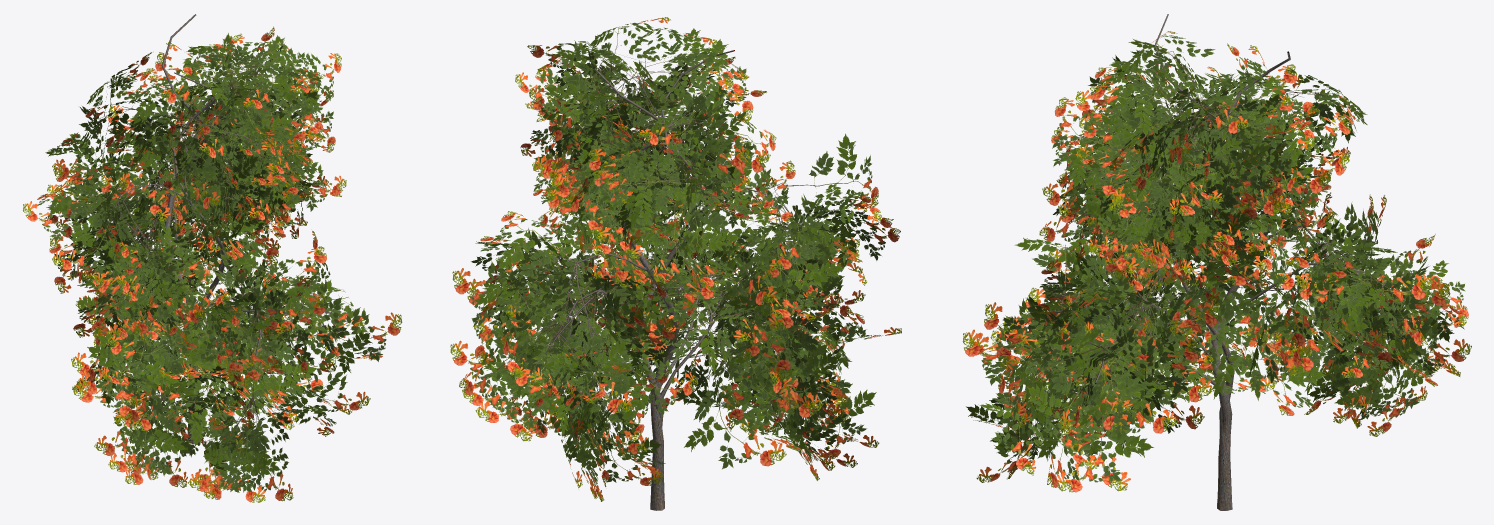
Rendered from ChineseTrumpetVine_1.fbx.
The picture shows the model from 3 angles, left to right: view 1: azimuth 30°, elevation 25°; view 2: azimuth 150°, elevation 25°; view 3: azimuth 270°, elevation 25°; orthographic projection. The views are drawn at different scales.
Visible parts, largest first — view 1: ChineseTrumpetVine_1; view 2: ChineseTrumpetVine_1; view 3: ChineseTrumpetVine_1.
Part boxes in pixels (x1,y1,x2,y2): ChineseTrumpetVine_1: (23,14,402,502); ChineseTrumpetVine_1: (450,17,901,510); ChineseTrumpetVine_1: (962,14,1471,510).
Size of the model in its own units: 333 by 404 by 417.
